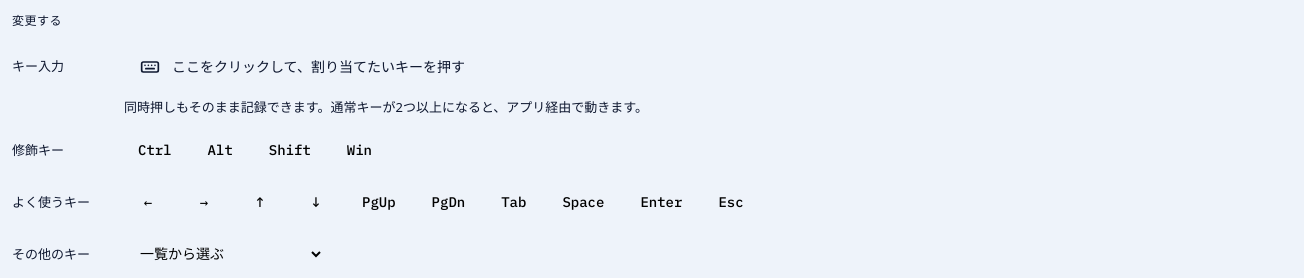
Test: Tab navigates, Escape cancels and a lock or reset cancels capture
This screenshot has width=1304, height=278.
Later steps or results of the test are not shown.
Click the button "ここをクリックして、割り当てたいキーを押す".
click(318, 66)  # box [124, 43, 1292, 91]
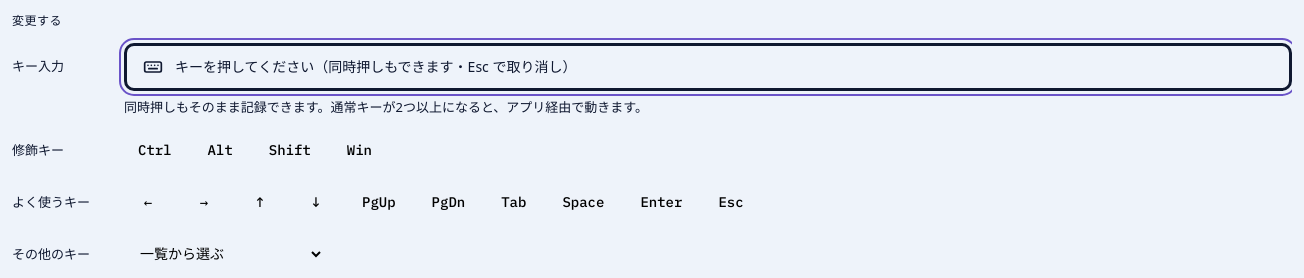
Press Tab in the button named "ここをクリックして、割り当てたいキーを押す", box [124, 43, 1292, 91]
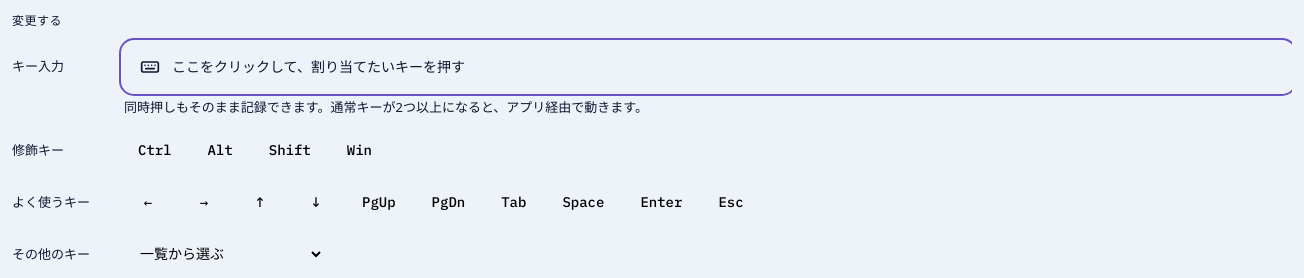
Expected: the button "ここをクリックして、割り当てたいキーを押す" is not pressed, [124, 43, 1292, 91]
